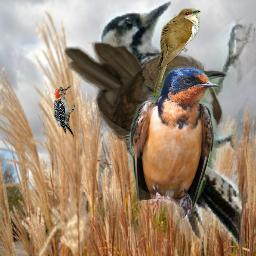Cuckoo: (64, 41, 229, 188), (152, 8, 201, 99)
Swallow: (130, 66, 219, 220)
Woodpecker: (97, 0, 256, 251), (52, 84, 75, 141)
